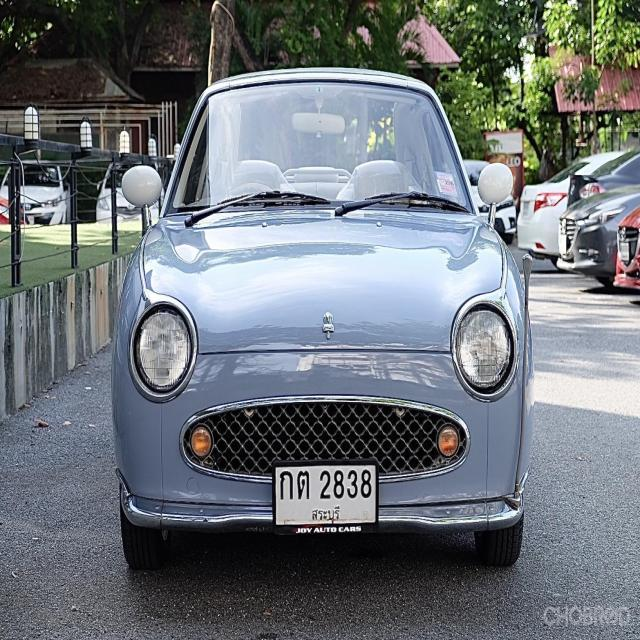license_plate: (272, 460, 379, 536), (620, 240, 630, 262), (559, 232, 568, 256), (524, 198, 530, 215)
